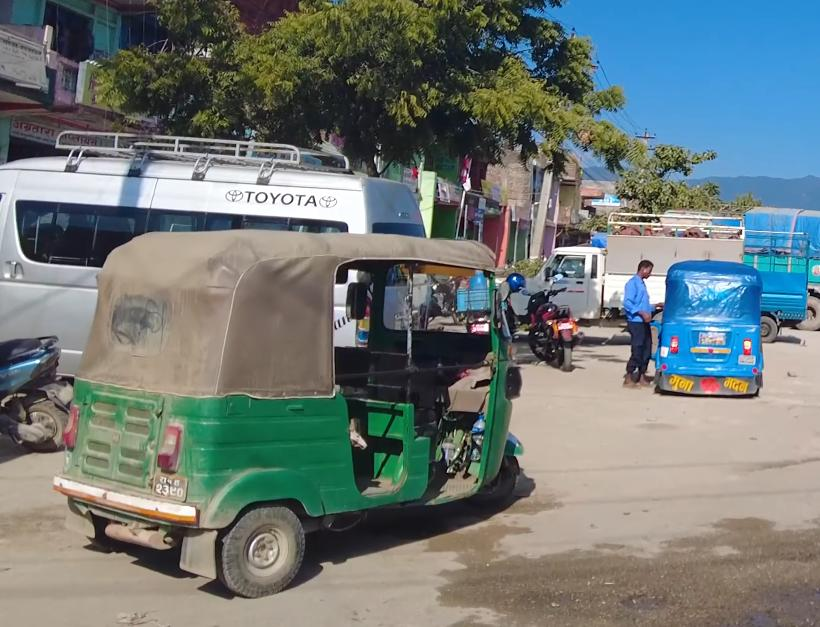auto_rickshaw: (58, 223, 529, 595), (657, 254, 771, 403)
micro_bus: (0, 127, 433, 368)
scooter: (0, 333, 75, 457)
transport_vehicle: (508, 211, 756, 338)
